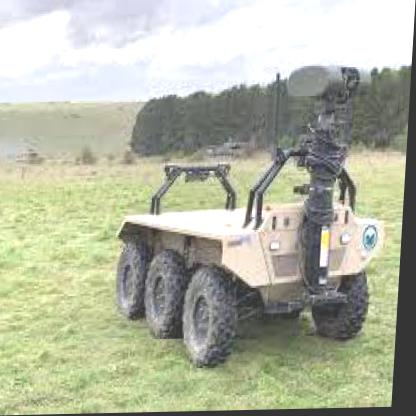UGV: (114, 67, 396, 372)
